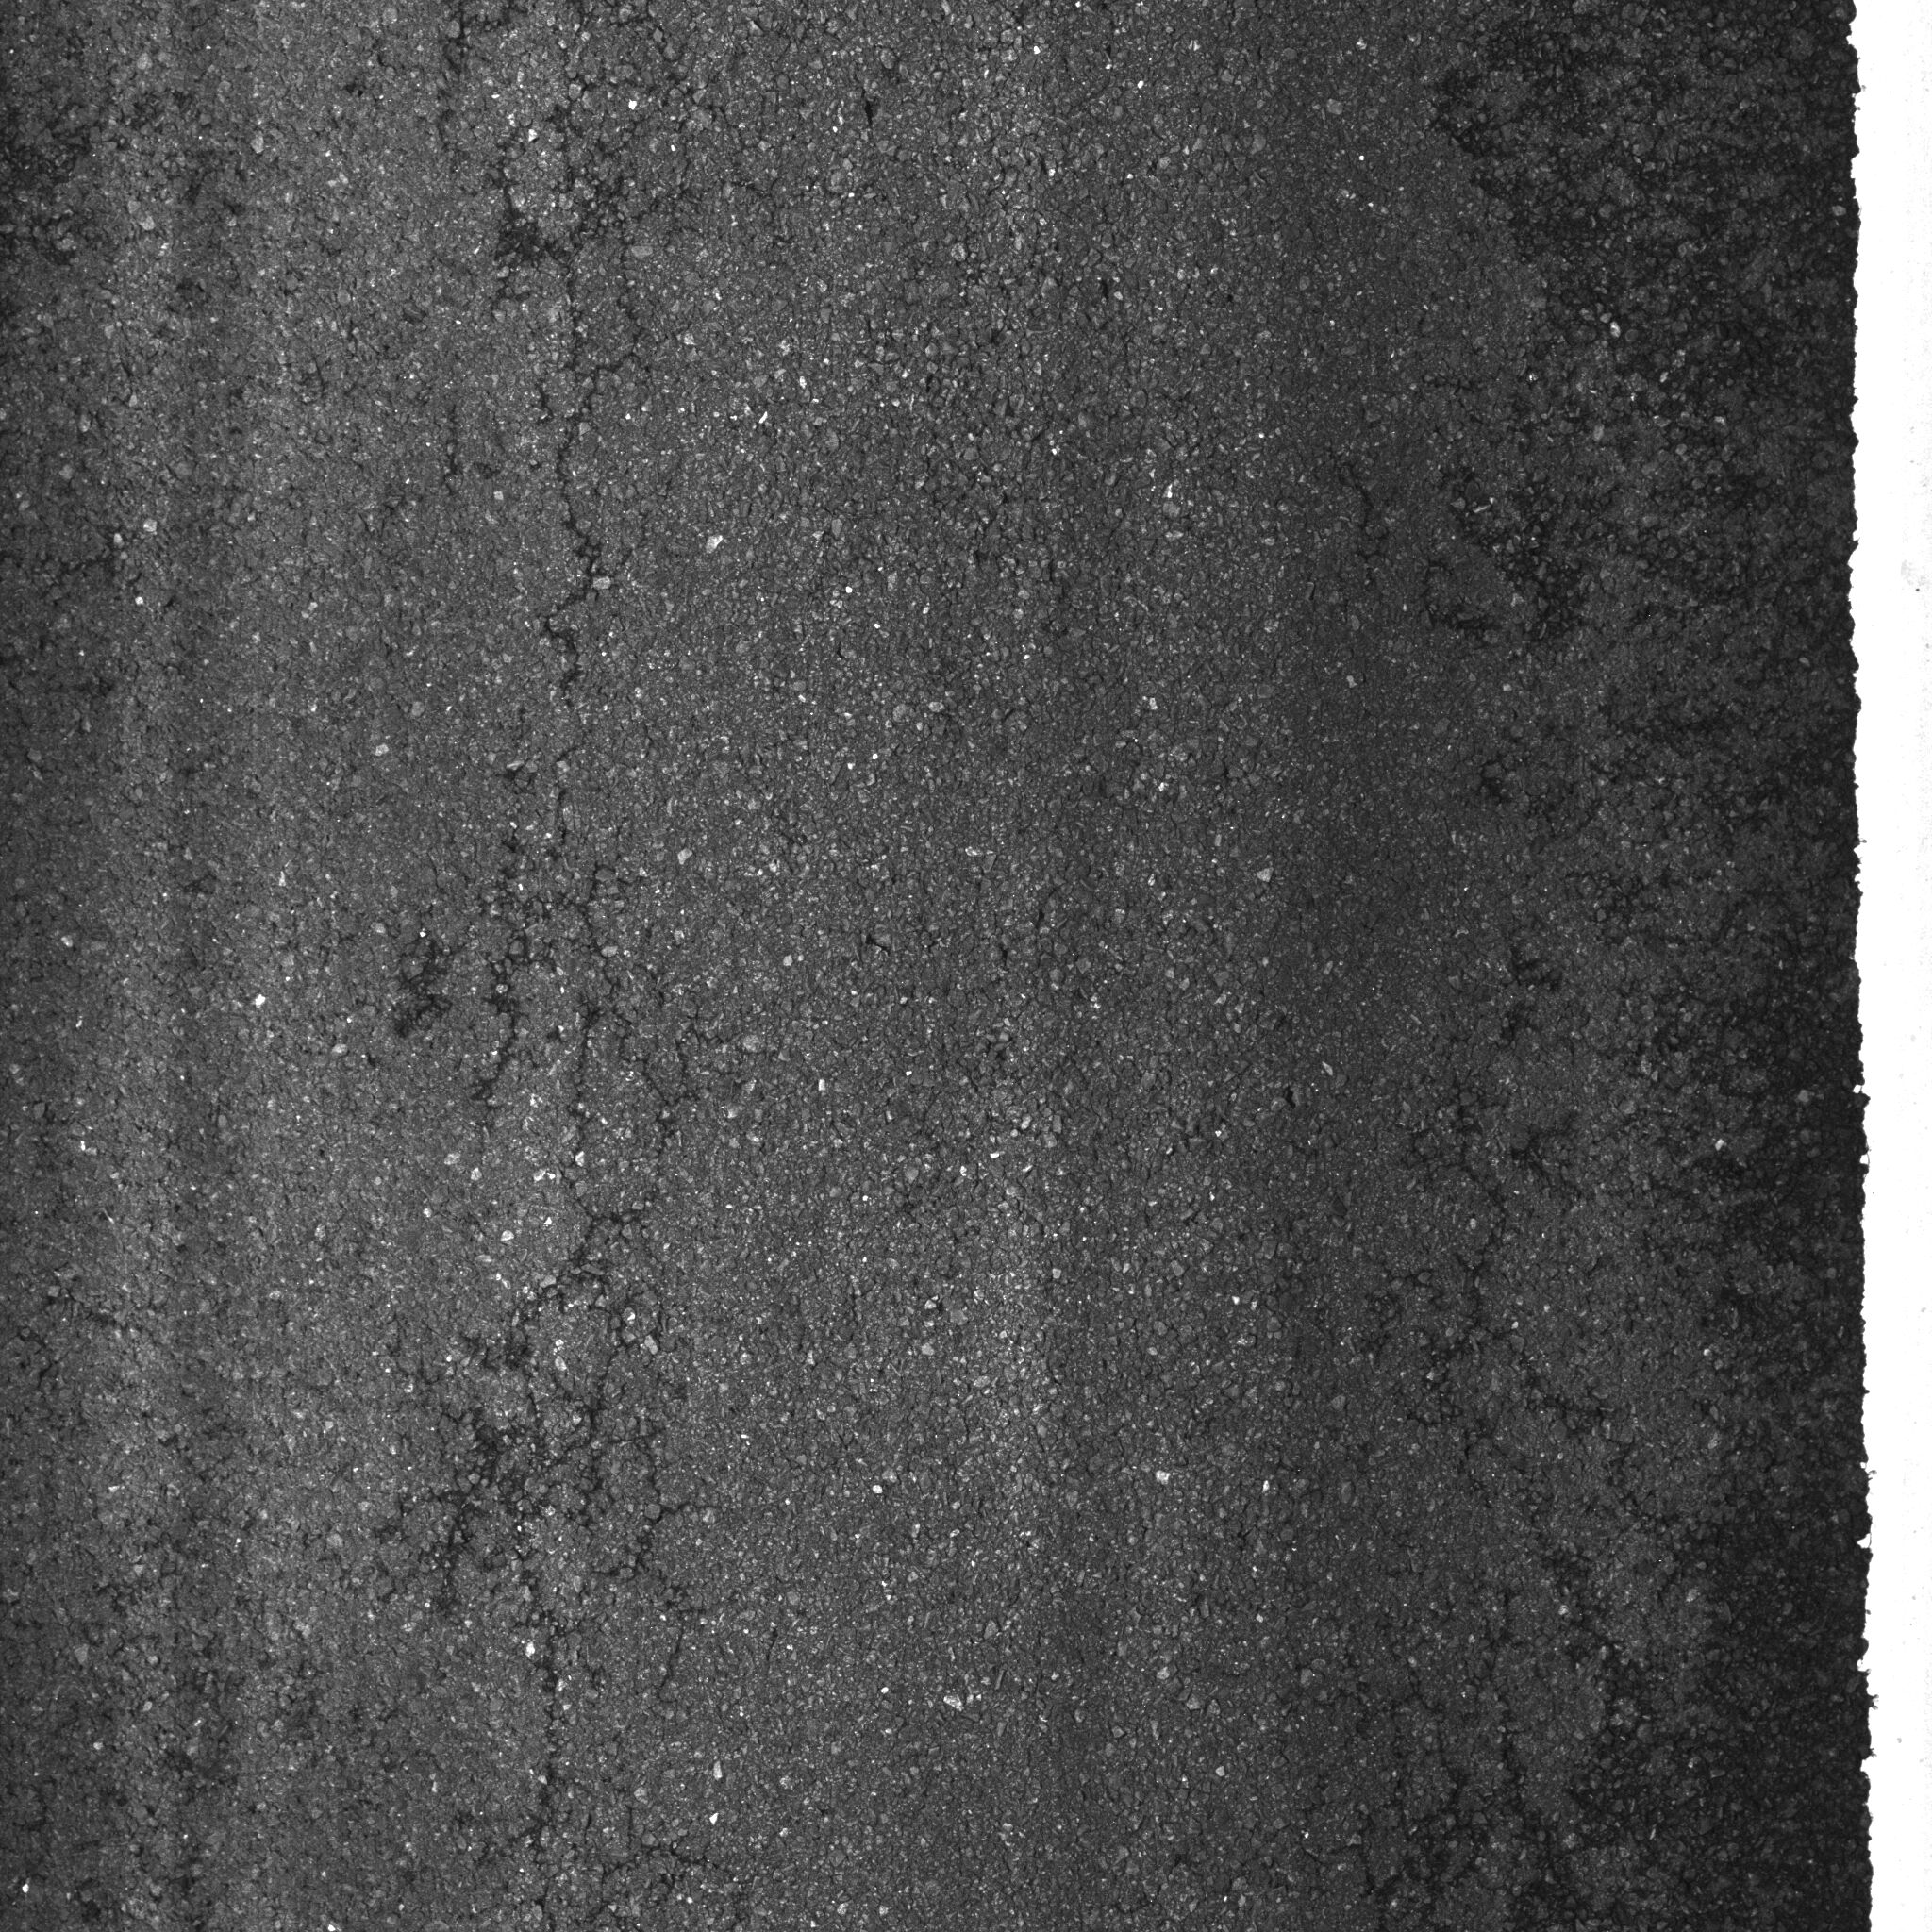alligator: (267, 9, 878, 1930)
